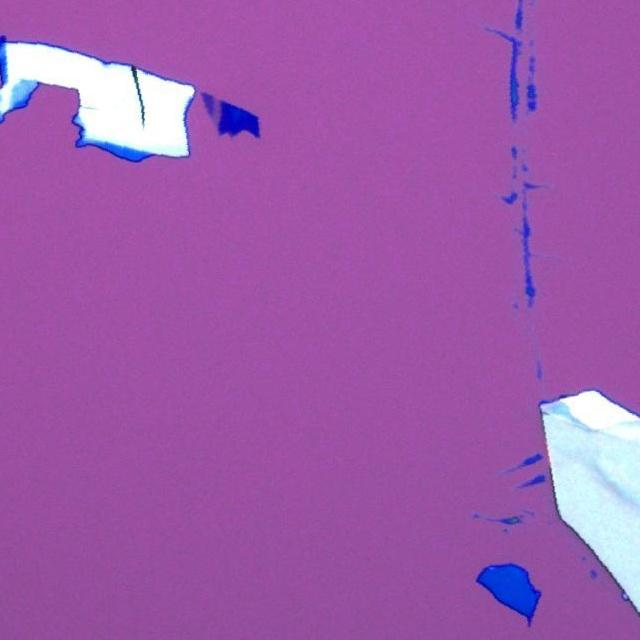monolayer-eWW4: (212, 97, 222, 126)
